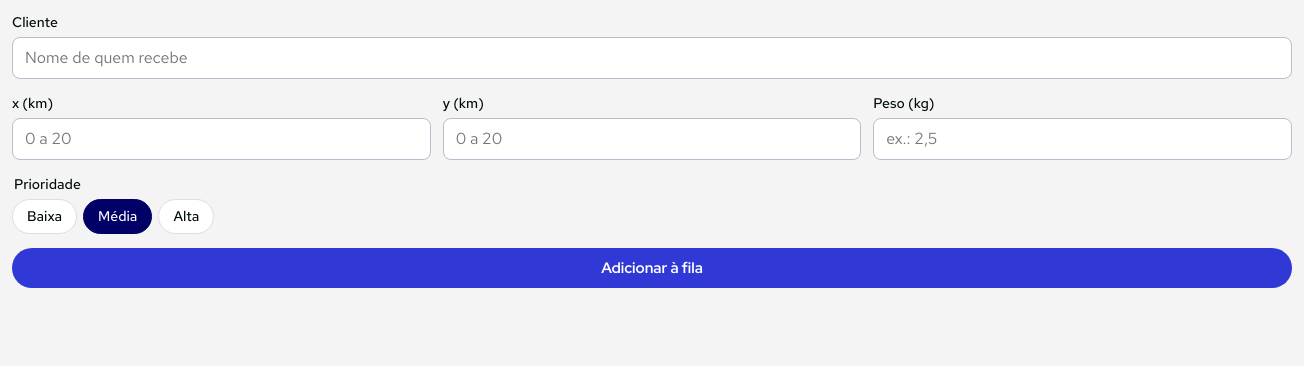
Scenario: <PedidoForm /> › mostra a mensagem de regra de negócio vinda da API
Step 1. Type "12" into the field labelled "x (km)" → [221, 139], box [12,118,431,160]
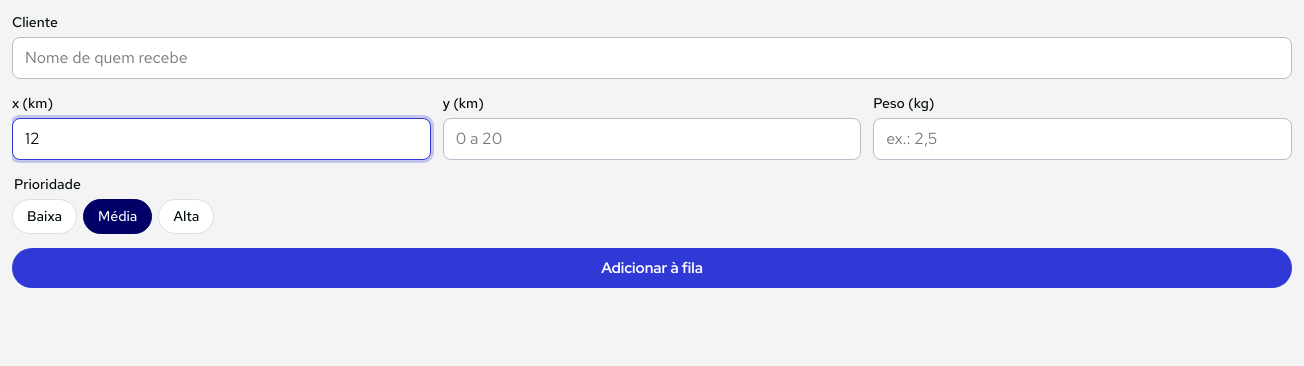
Step 2. Type "7" into the field labelled "y (km)" → [652, 139], box [443,118,861,160]
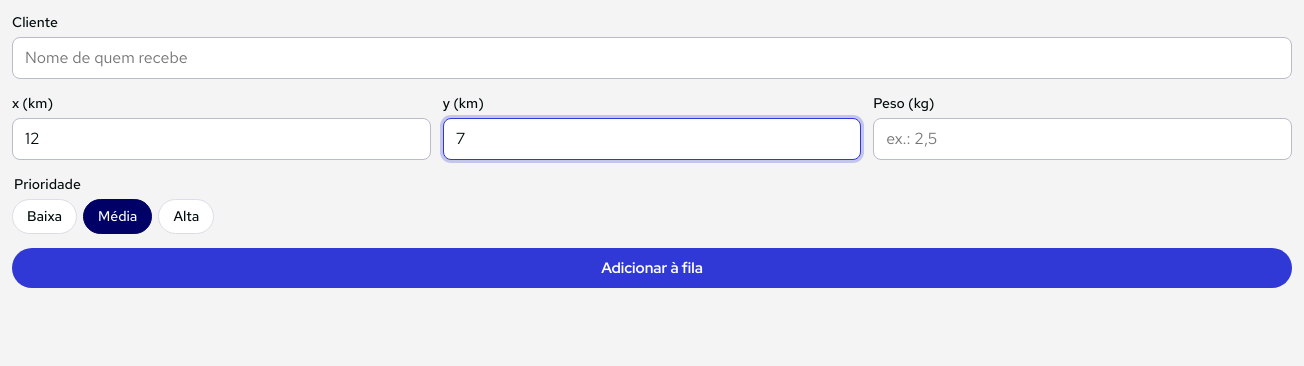
Step 3. Type "18" into the field labelled "Peso (kg)" → [1083, 139], box [873,118,1292,160]
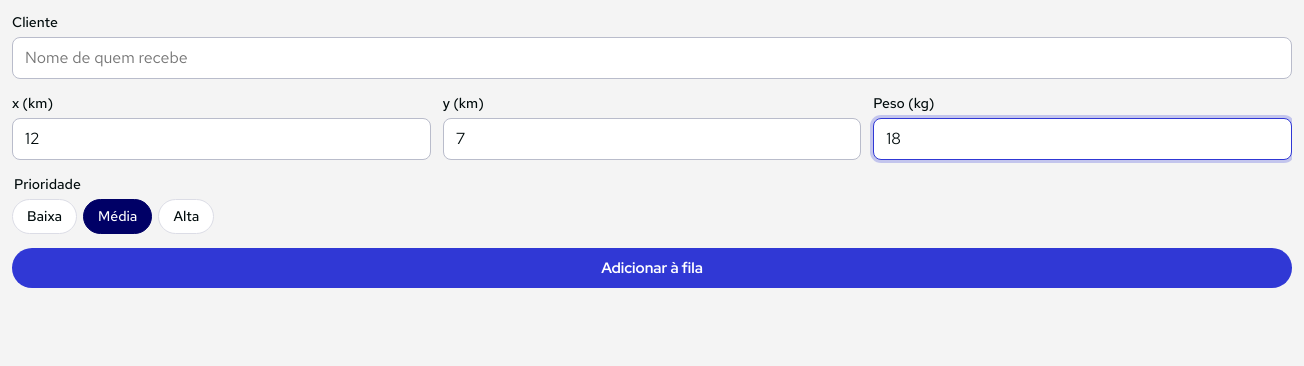
Step 4. Click the button "Adicionar à fila" → [652, 268], box [12,248,1292,288]
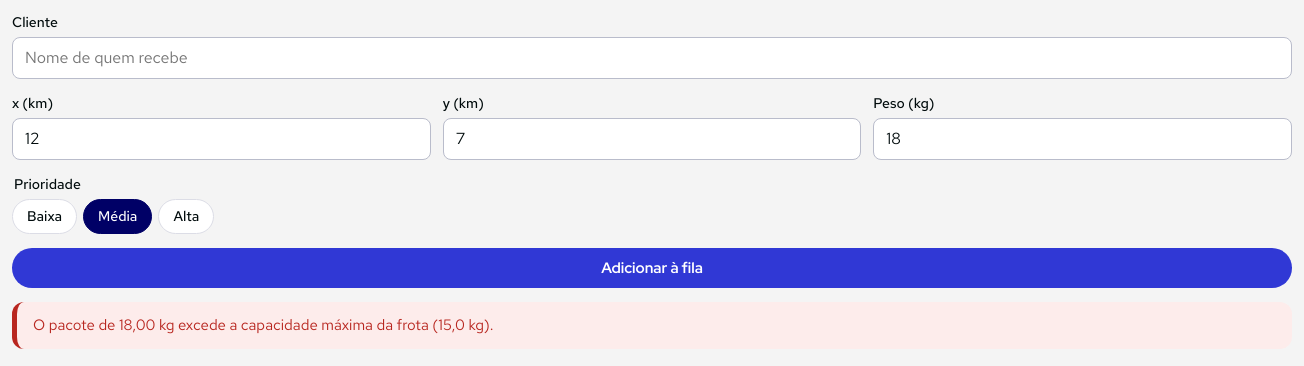
Check: the message shows "excede a capacidade máxima", box [33,315,494,335]
